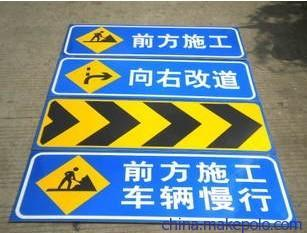sign: (68, 26, 286, 223)
